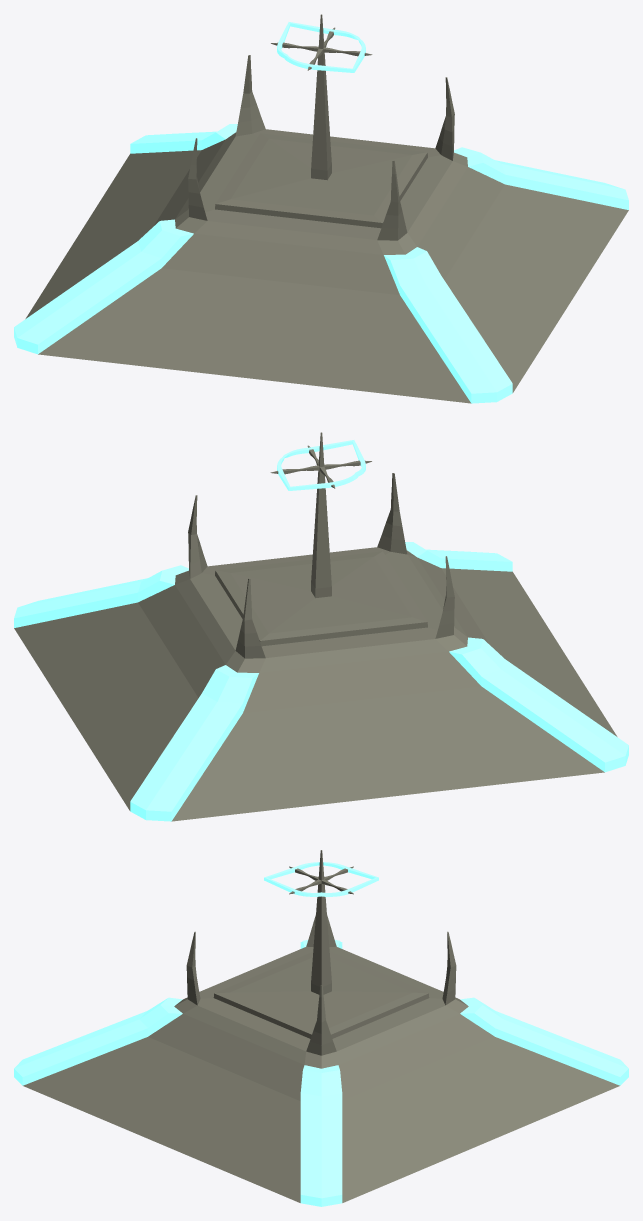
File: portalMonument.fbx
3 views of the same model, one above another, from view 1: azimuth 30°, elevation 25°; view 2: azimuth 150°, elevation 25°; view 3: azimuth 270°, elevation 25° (orthographic). The views are drawn at different scales.
Parts seen in each view (by area): view 1: PortalMonument; view 2: PortalMonument; view 3: PortalMonument.
Boxes of the visible parts, box(x1,y1,x2,y2) form: PortalMonument: box(14, 14, 628, 403); PortalMonument: box(14, 432, 628, 821); PortalMonument: box(14, 850, 628, 1206).
Bounding box in the file's own units: 1308 × 532 × 1308.
